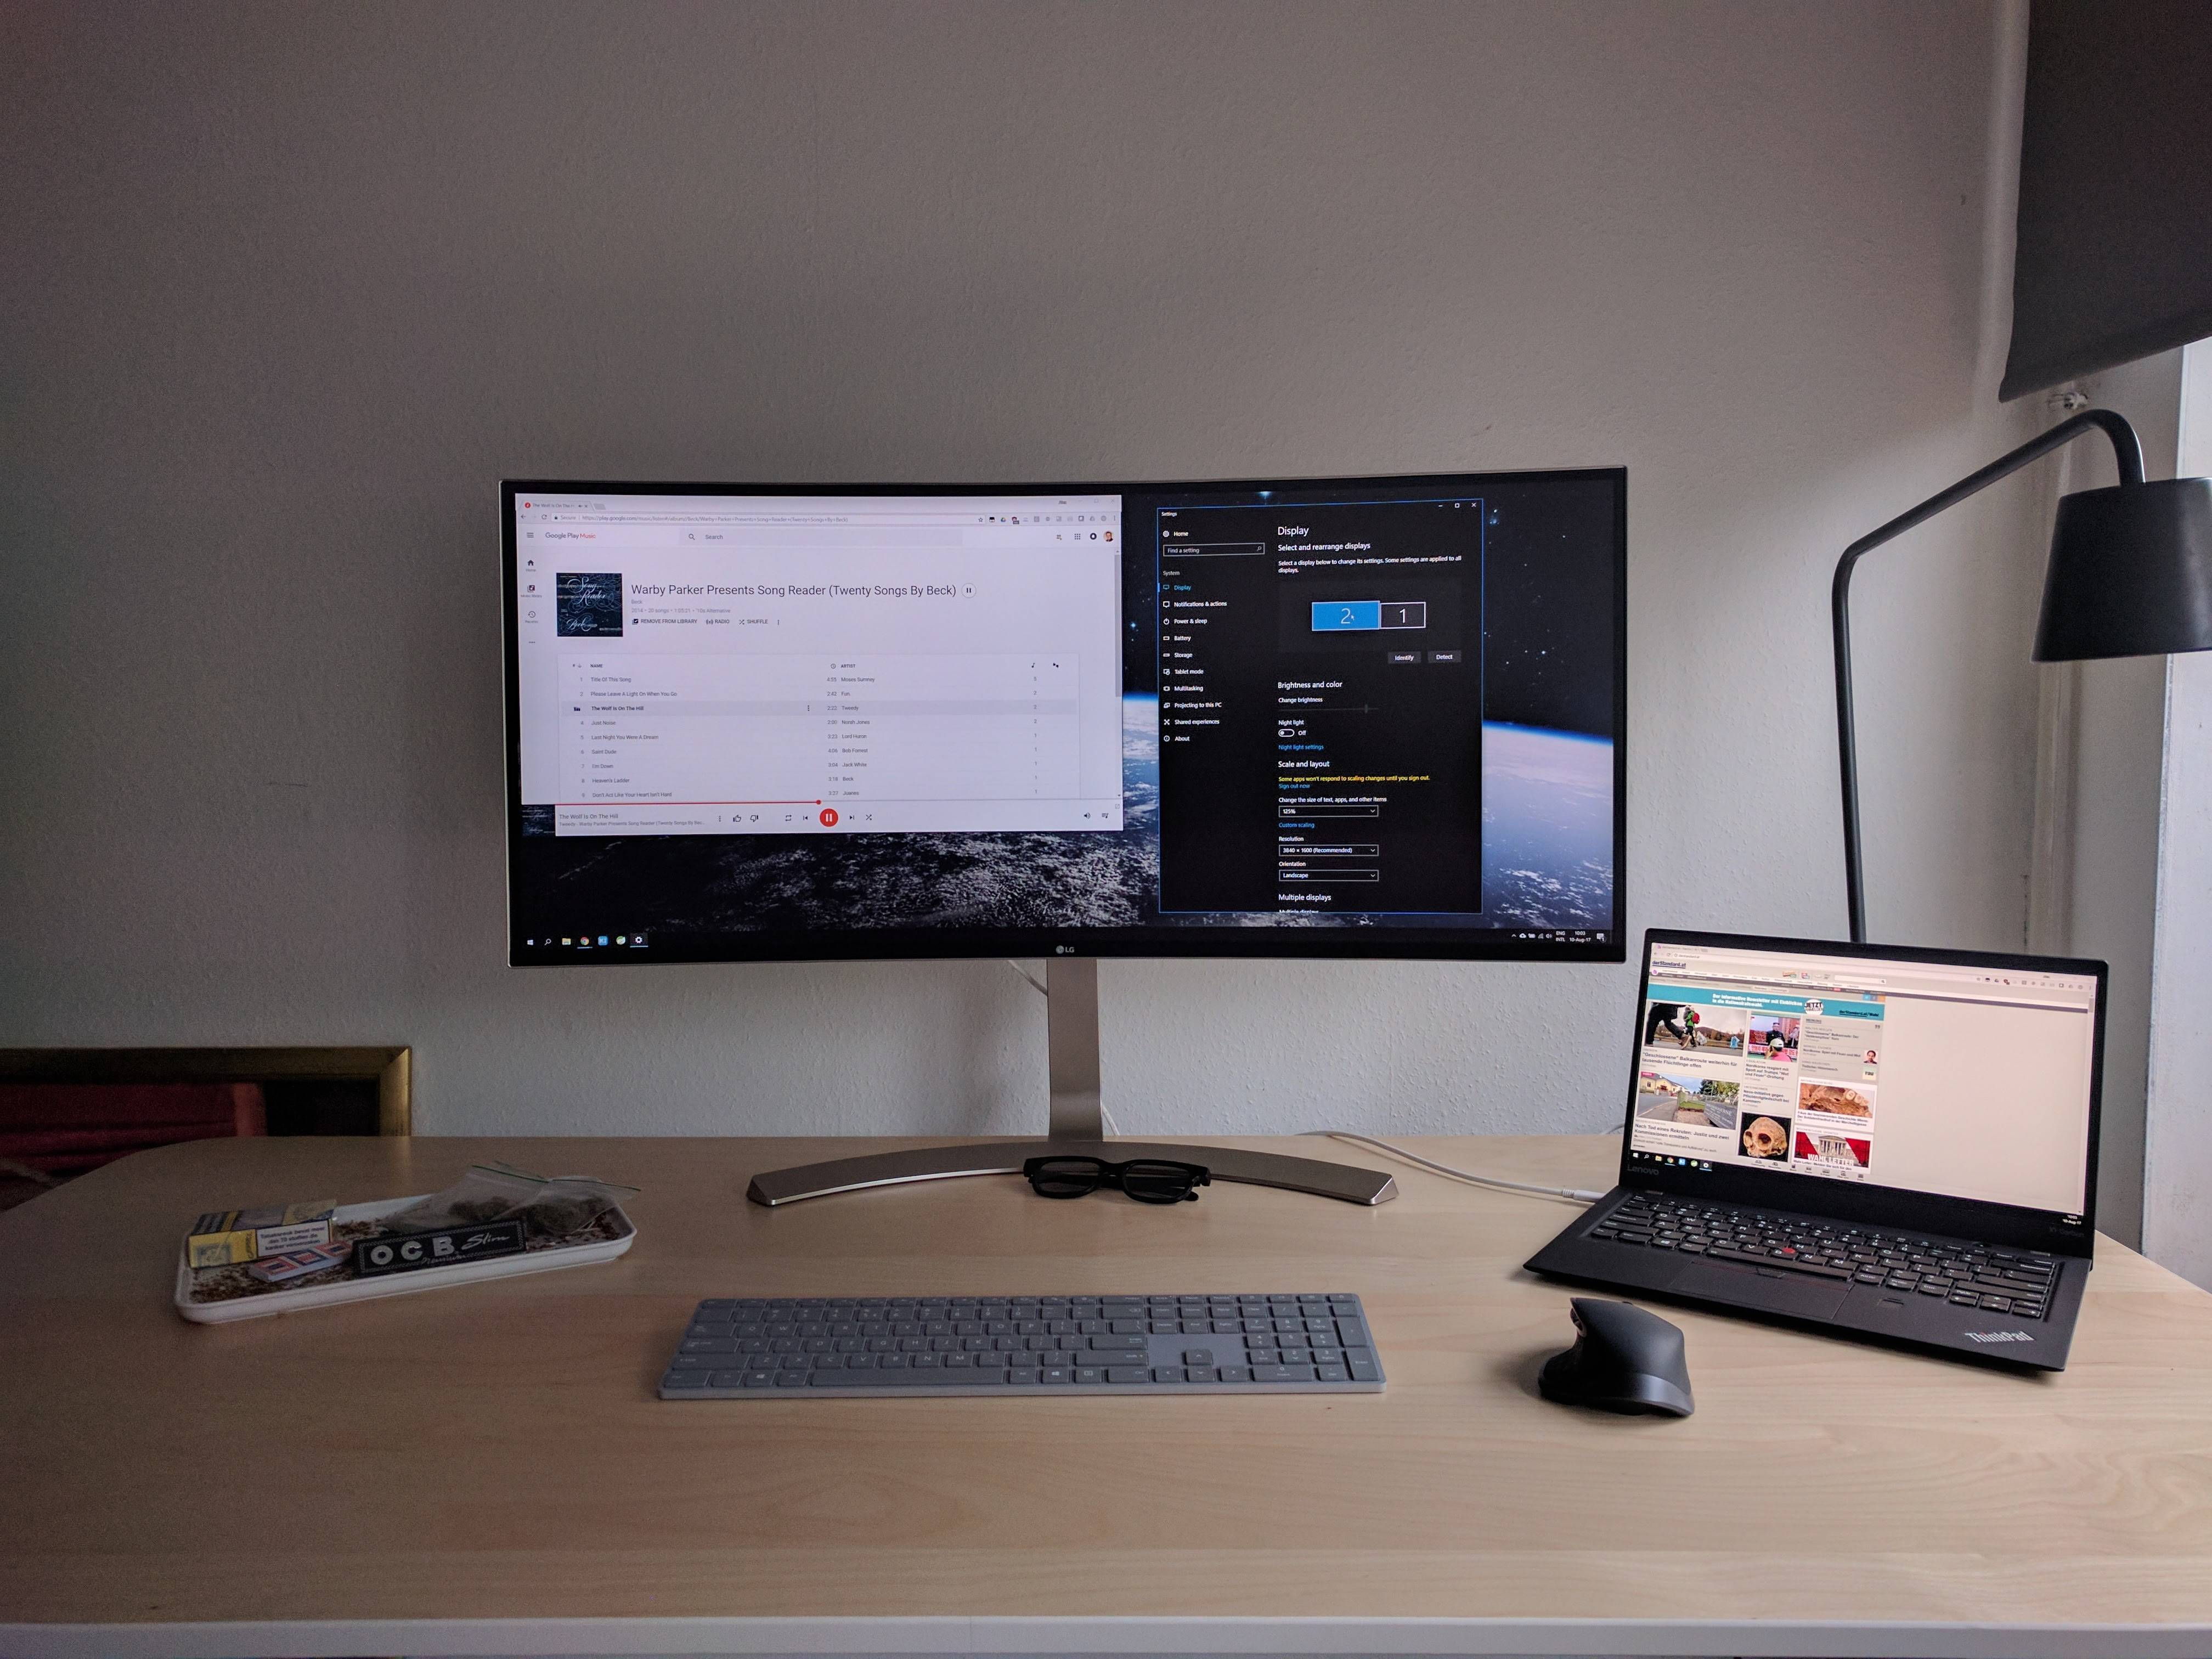Desk (Generic): (0, 1134, 2205, 1633)
Keyboard (Generic): (639, 1274, 1407, 1436)
Lamp (Desk): (1785, 406, 2175, 951)
Laptop (Windows): (1536, 899, 2191, 1398)
Monitor (Landscape): (495, 490, 1646, 971)
Mouse (Ergonomic): (1527, 1251, 1721, 1443)
